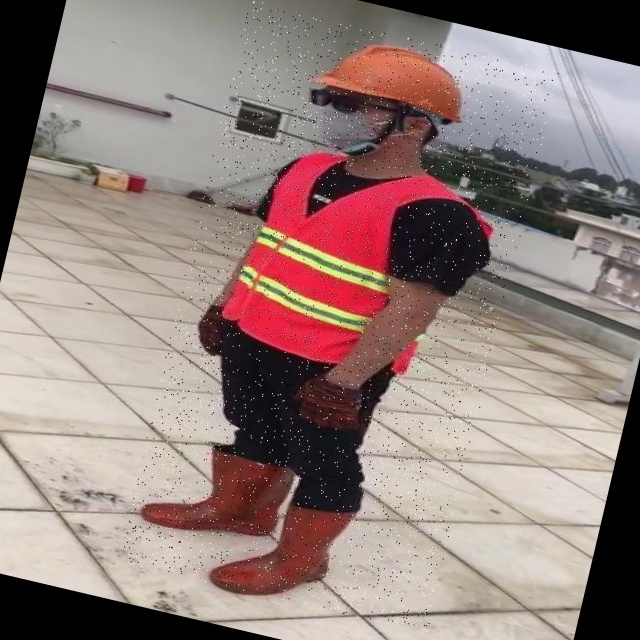boots: (236, 499, 368, 606), (308, 470, 450, 556)
gloves: (253, 371, 324, 424), (413, 331, 436, 376)
vest: (156, 158, 414, 357)
